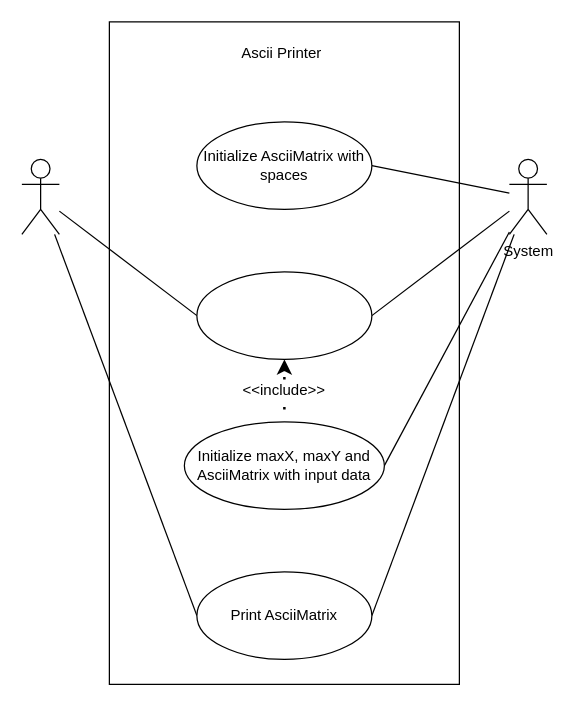
This 575x706 diagram has some shape labels left out. Each missing label, with the box of its shape:
Read Input File: (196, 271, 372, 359)
User: (21, 158, 59, 234)
